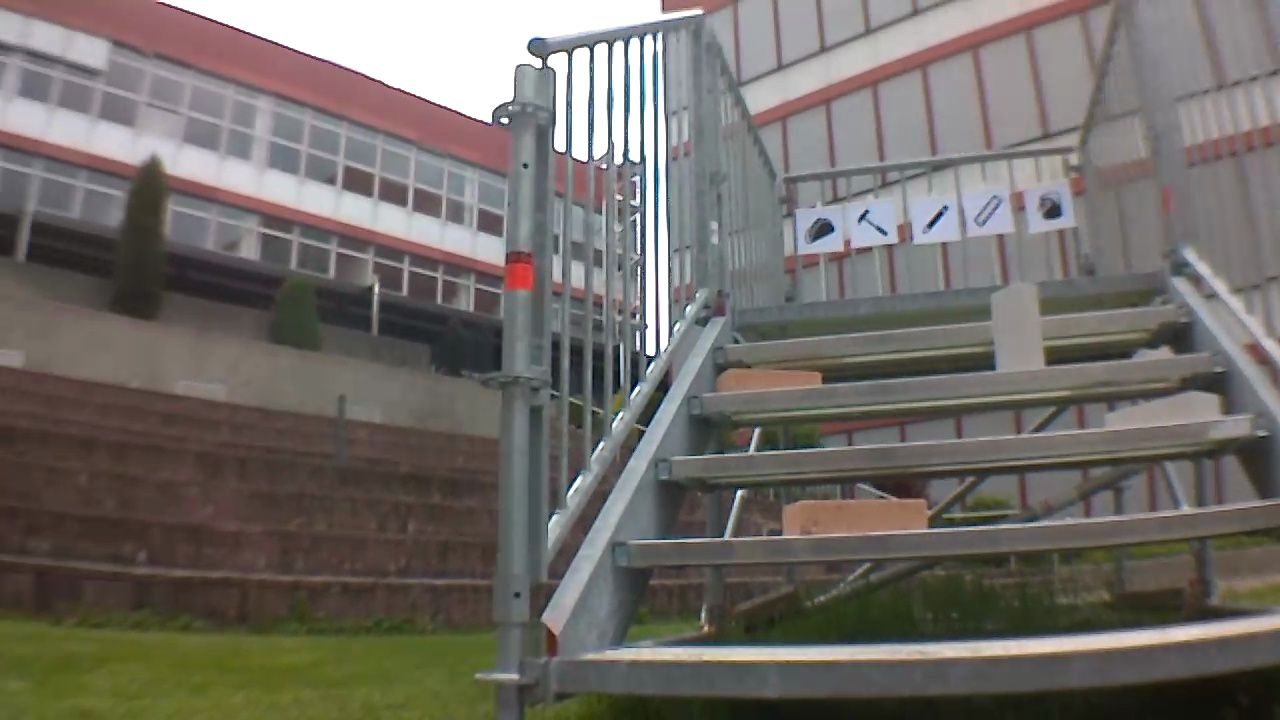brick: (781, 498, 927, 533), (992, 284, 1042, 370), (1106, 393, 1219, 427), (718, 368, 821, 390)
bucket: (1032, 187, 1068, 222)
edge: (551, 622, 1278, 694), (613, 502, 1278, 565), (658, 415, 1268, 477), (692, 352, 1229, 411), (718, 306, 1185, 362), (735, 270, 1165, 323)
hammer: (854, 205, 895, 238)
pencil: (917, 201, 955, 239)
ruler: (971, 192, 1008, 230)
stairs: (469, 3, 1276, 716)
steps: (545, 264, 1280, 702)
taco: (799, 211, 838, 246)
